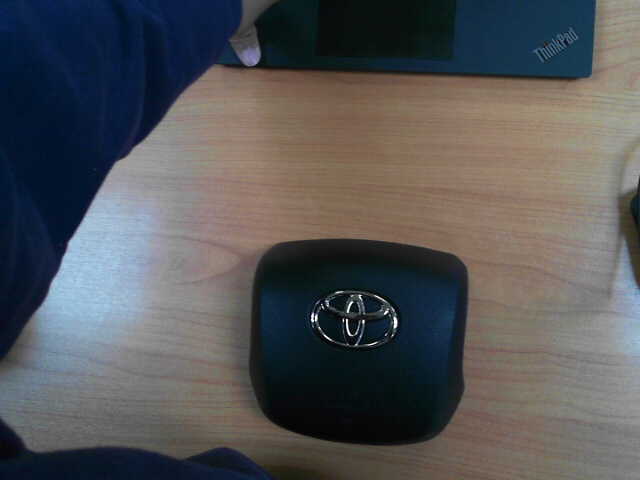Airbag: (250, 236, 464, 444)
